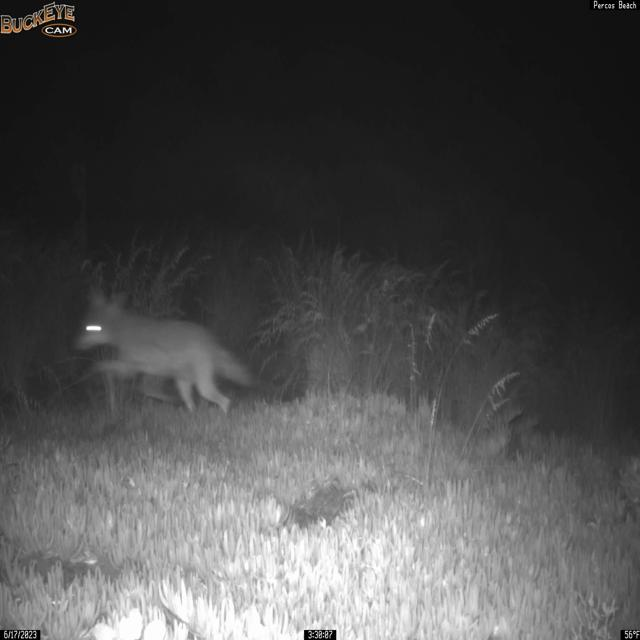coyote: (71, 285, 257, 417)
